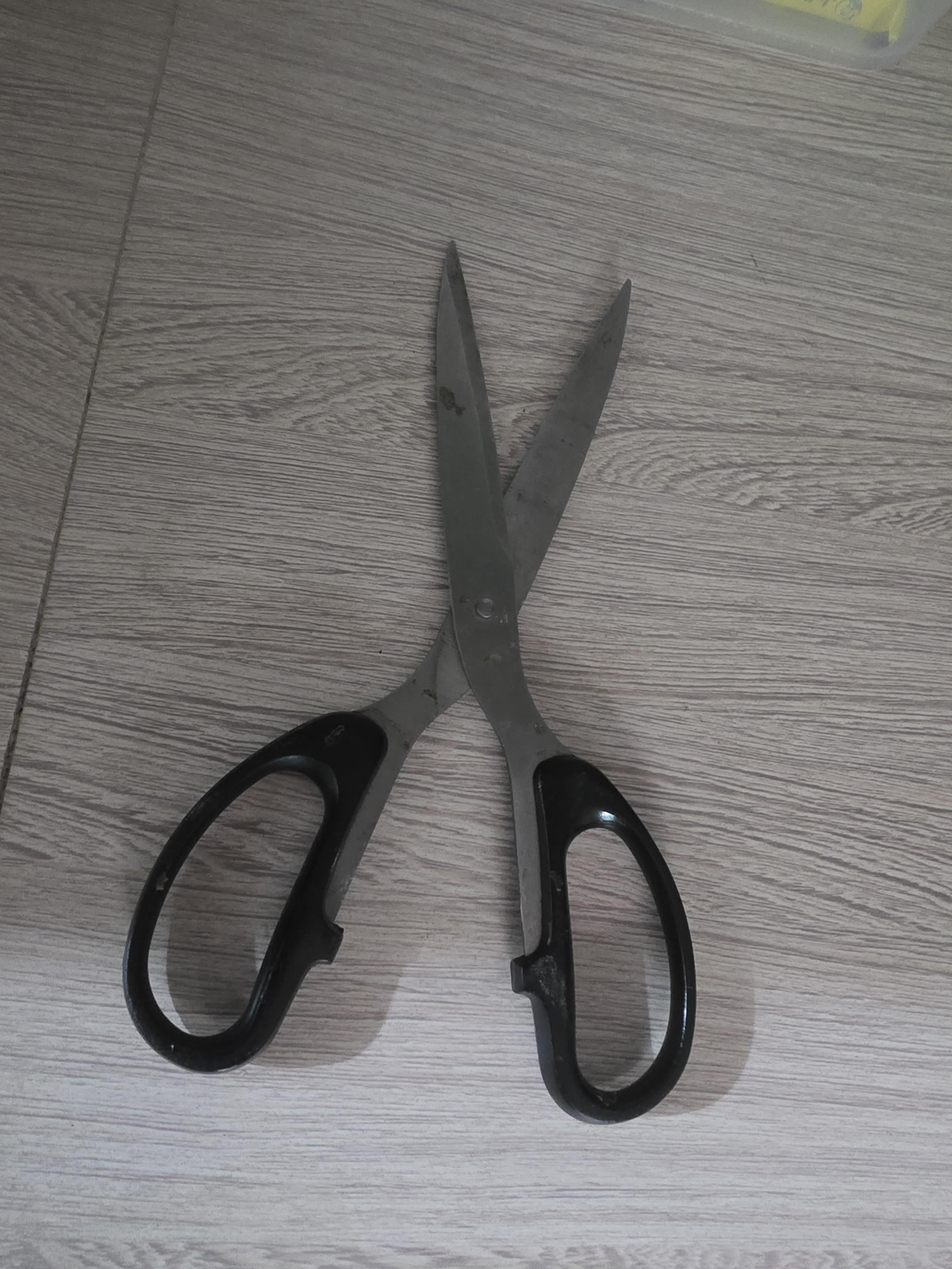scissors: (120, 240, 697, 1124)
